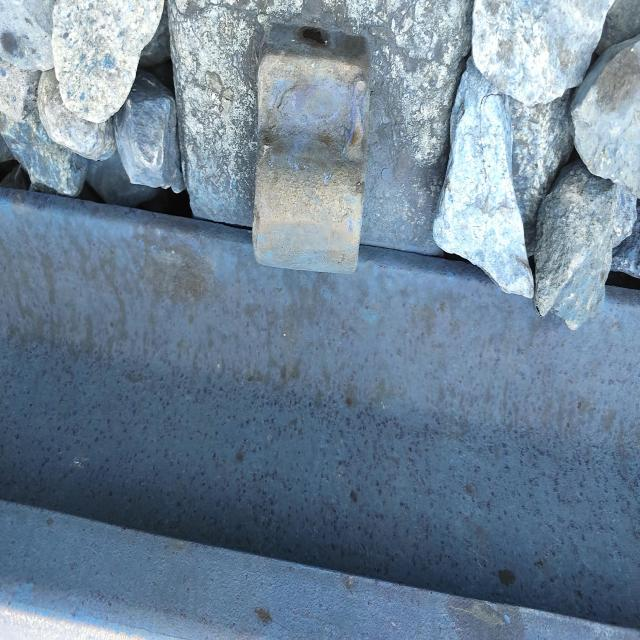Missing Fastener: (217, 27, 402, 302)
